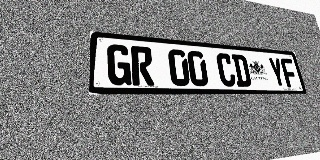0: (167, 49, 190, 86), (187, 50, 209, 86)
C: (215, 53, 237, 87)
D: (231, 54, 252, 87)
F: (280, 58, 299, 87)
G: (107, 44, 131, 85)
R: (131, 46, 154, 86)
Y: (267, 57, 287, 87)
